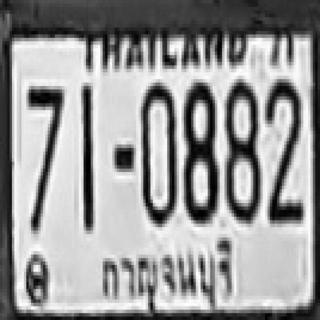N00: (139, 81, 174, 222)
N01: (80, 83, 92, 217)
N02: (265, 78, 301, 218), (264, 76, 300, 206)
N07: (26, 82, 62, 227)
N08: (182, 79, 217, 220), (224, 76, 258, 220)
P17: (91, 237, 239, 308)
